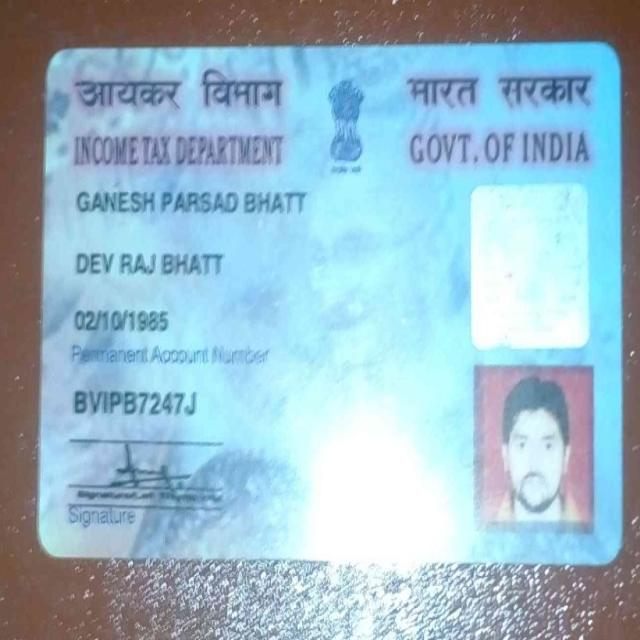pan_card: (48, 53, 618, 556)
